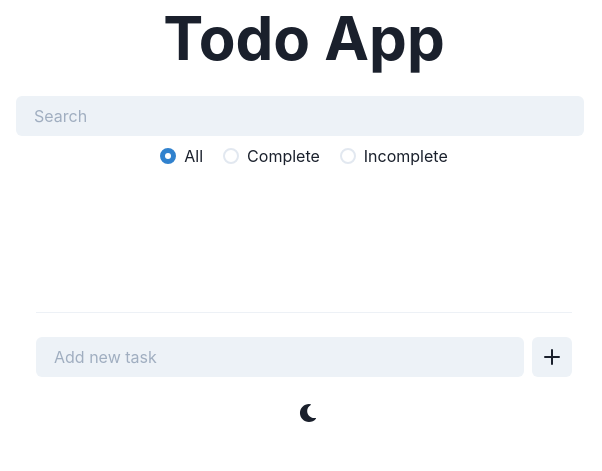
todo list flows › delete task
Type "Feed the cat" into the field with test id "taskinput-todo-app" at (280, 357), box x1=36 y1=337 x2=524 y2=377
Then press Enter
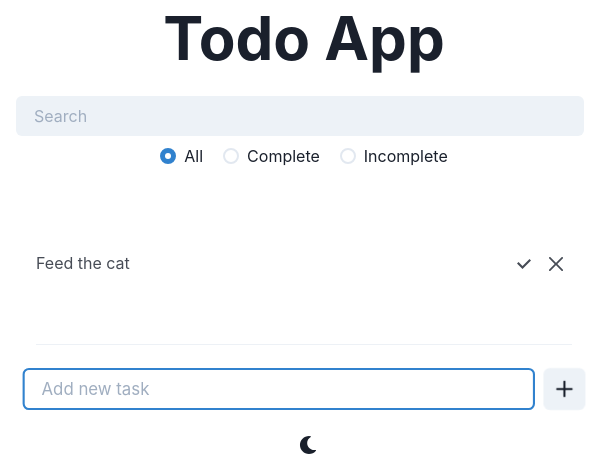
Click the button with test id "taskbutton-todo-app-delete" at (556, 264), box x1=540 y1=248 x2=572 y2=280
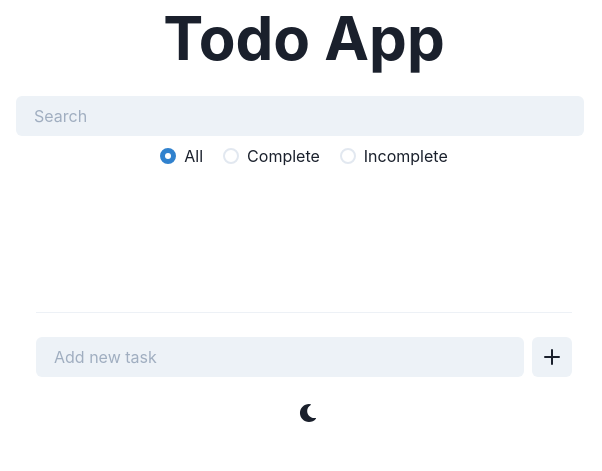
Expected: the button with test id "taskbutton-todo-app-done" is gone
